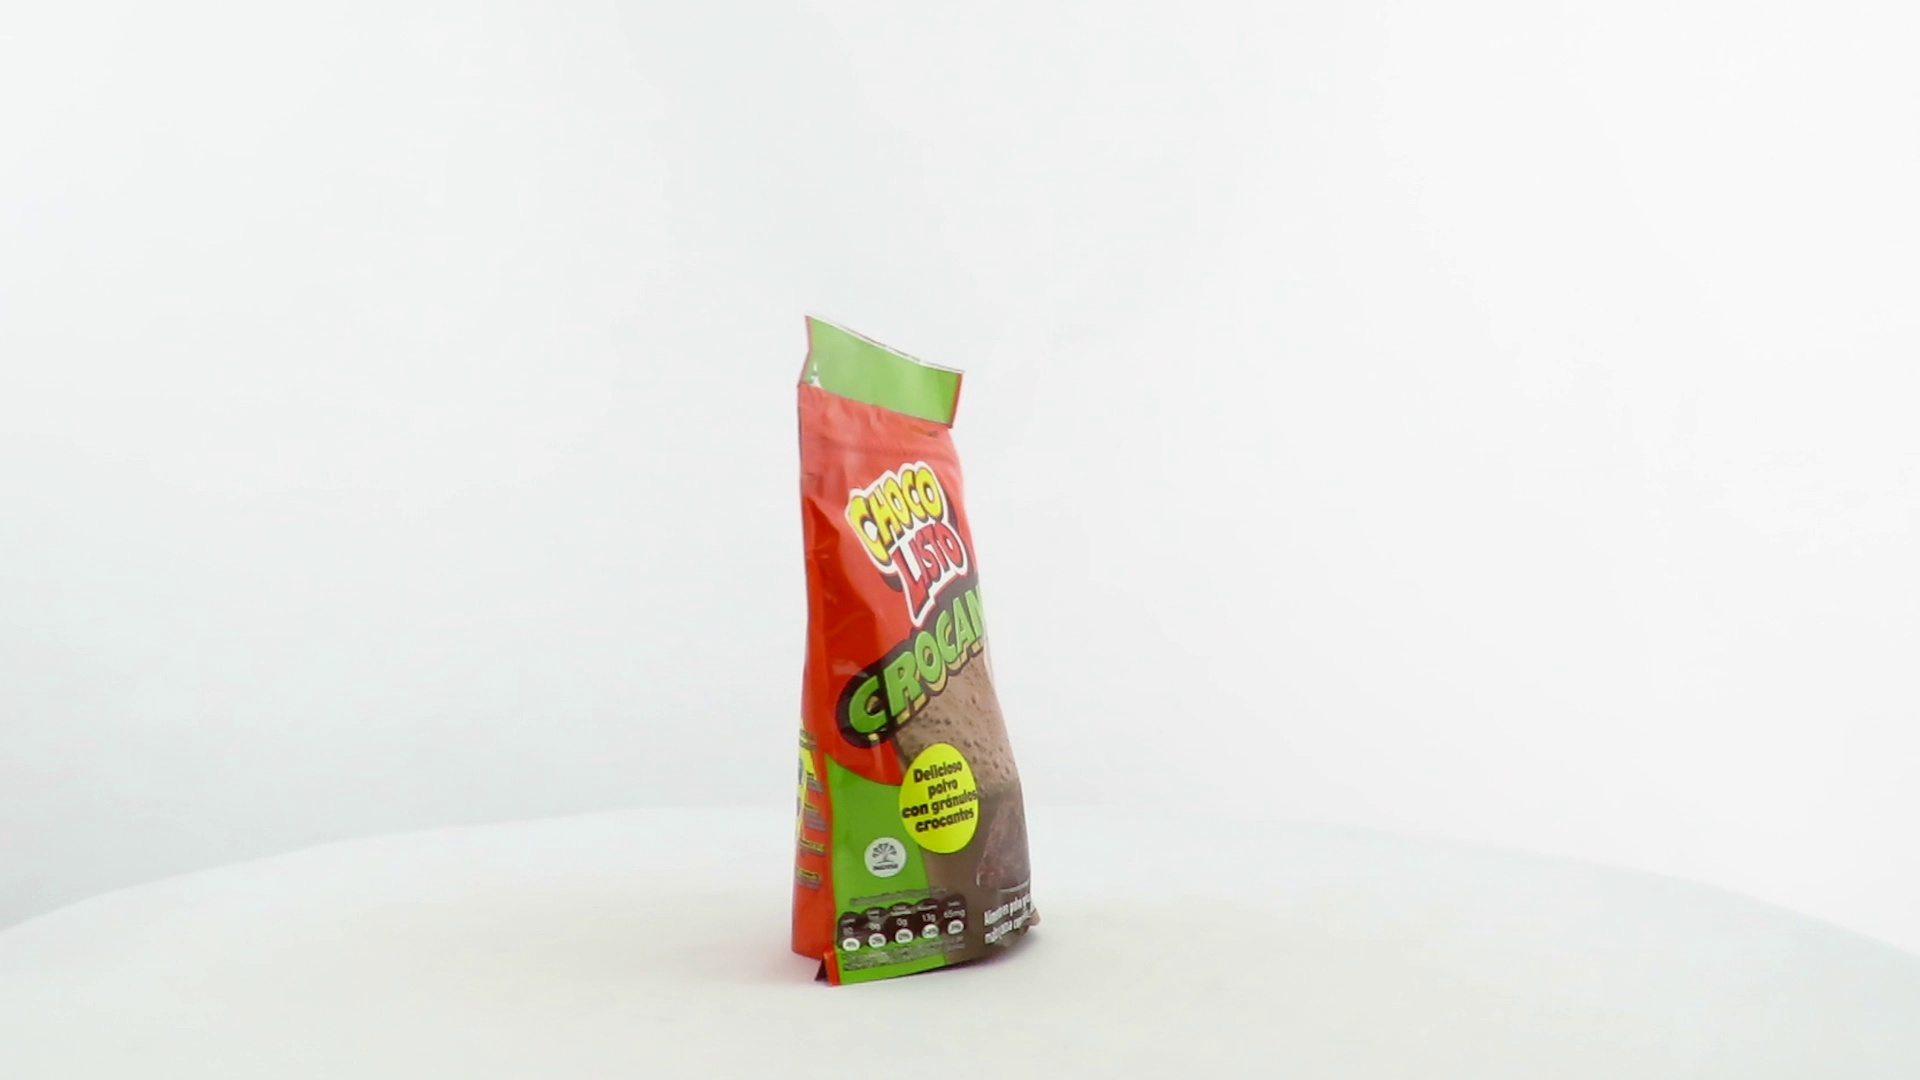COL0170102DYP10000: (786, 305, 1047, 994)
